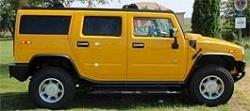car: (0, 12, 248, 111)
